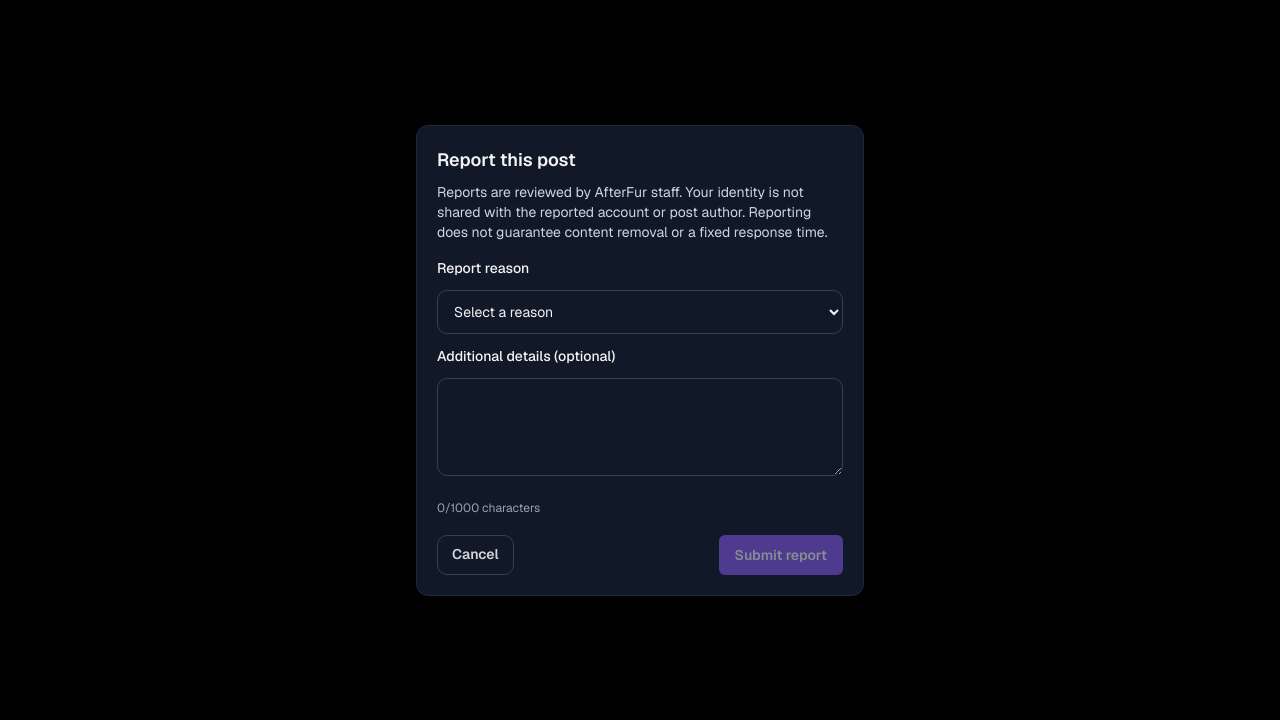
Scenario: ReportDialog › tracks description characters
Type "Some details" into the text box labelled "Additional details (optional)" at (640, 426), box [437, 378, 843, 476]
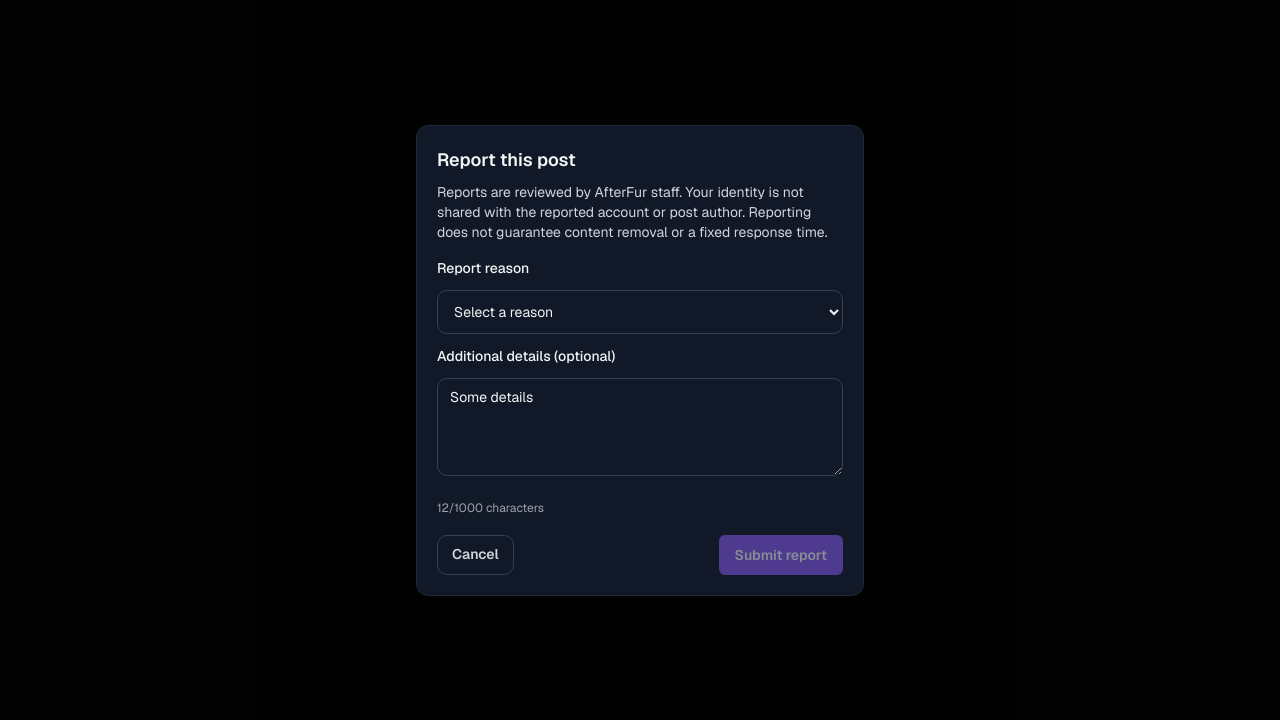
Now the text "12/1000 characters" is shown, box [437, 500, 544, 516]
